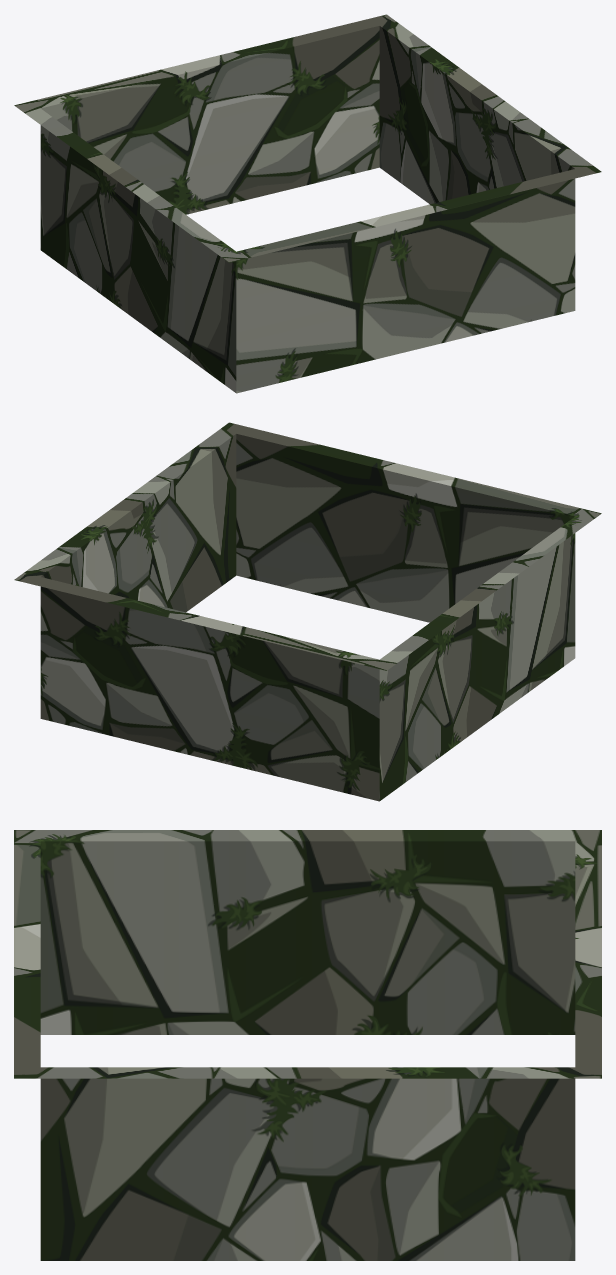
File: Walls.fbx
3 views of the same model, one above another, from view 1: azimuth 30°, elevation 25°; view 2: azimuth 150°, elevation 25°; view 3: azimuth 270°, elevation 25° (orthographic). The views are drawn at different scales.
Visible parts, largest first — view 1: Walls; view 2: Walls; view 3: Walls.
Boxes of the visible parts, box(x1,y1,x2,y2) form: Walls: box(14, 14, 601, 393); Walls: box(14, 422, 601, 801); Walls: box(14, 830, 601, 1260).
Bounding box in the file's own units: 4400 × 1600 × 4400.
